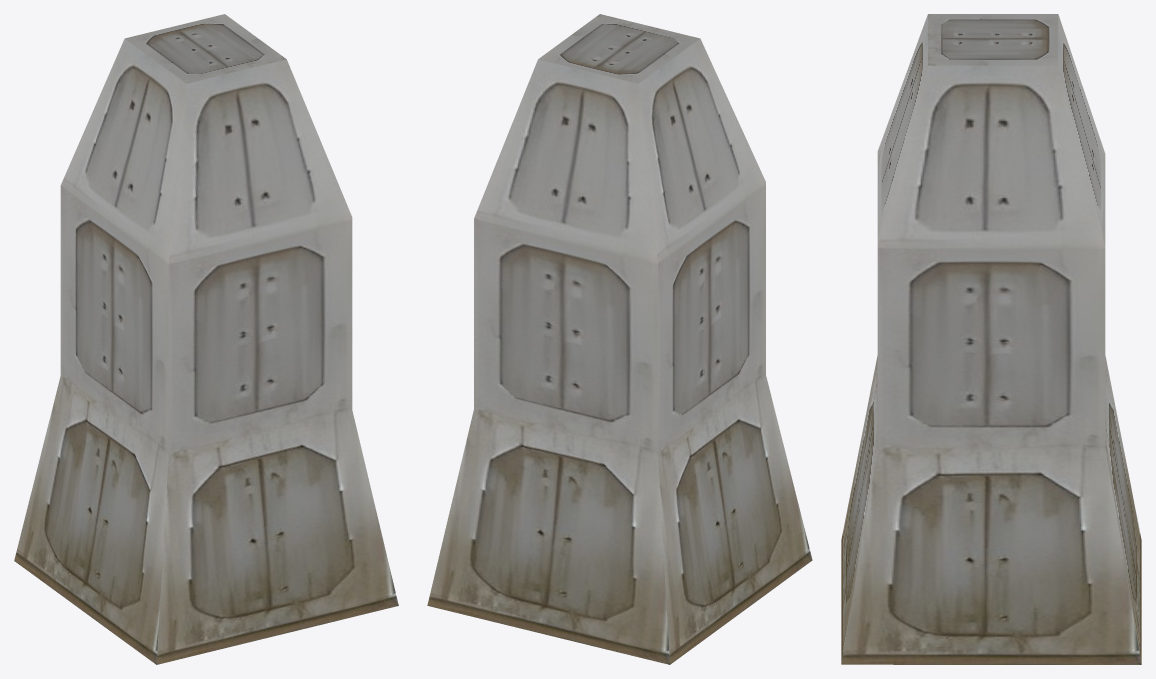
Rendered from l_mediumpost_hdtex.glb.
3 views of the same model, side by side, from view 1: azimuth 30°, elevation 25°; view 2: azimuth 150°, elevation 25°; view 3: azimuth 270°, elevation 25° (orthographic). The views are drawn at different scales.
Parts seen in each view (by area): view 1: L_MediumWall; view 2: L_MediumWall; view 3: L_MediumWall.
Part boxes in pixels (x1=…): L_MediumWall: x1=14, y1=14, x2=398, y2=664; L_MediumWall: x1=427, y1=14, x2=812, y2=664; L_MediumWall: x1=841, y1=14, x2=1141, y2=664.
Size of the model in its own units: 5.49 by 11.57 by 5.59.
Materials: 1 (1 with a texture image).
